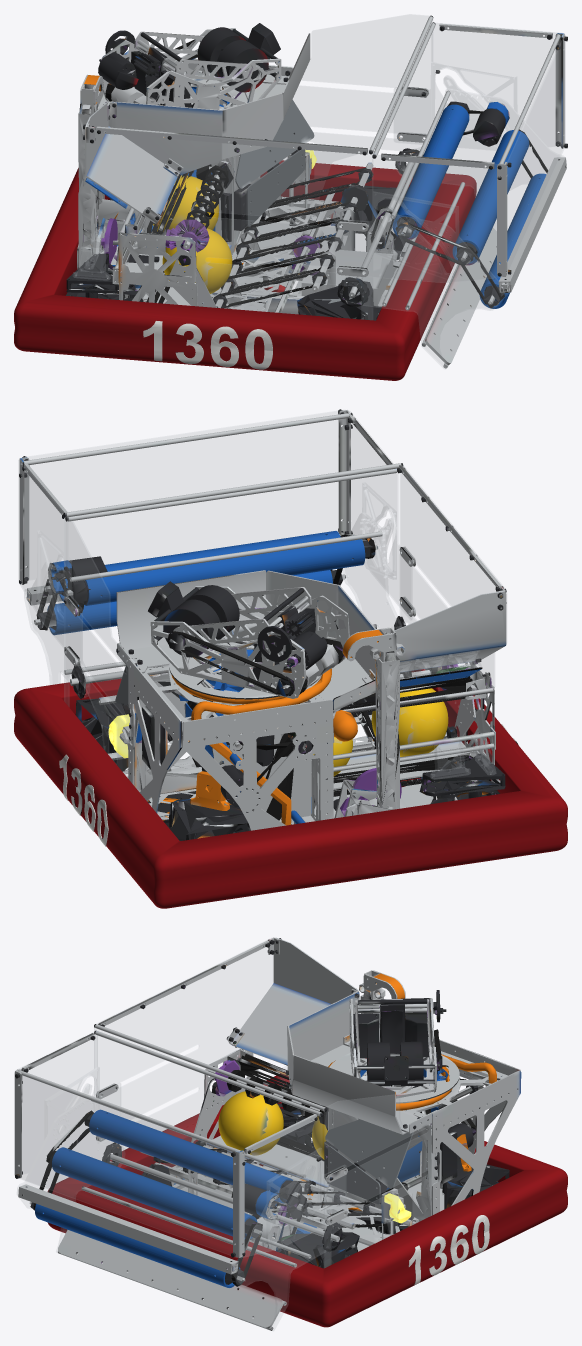
File: robot.glb
3 views of the same model, one above another, from view 1: azimuth 30°, elevation 25°; view 2: azimuth 150°, elevation 25°; view 3: azimuth 270°, elevation 25° (orthographic). The views are drawn at different scales.
Visible parts, largest first — view 1: NEW_robot_root__mesh, NEW_robot_root__glass_robot_polycarbonate.001; view 2: NEW_robot_root__mesh, NEW_robot_root__glass_robot_polycarbonate.001; view 3: NEW_robot_root__mesh, NEW_robot_root__glass_robot_polycarbonate.001.
Boxes of the visible parts, x1,y1,x2,y2 form: NEW_robot_root__mesh: [14, 15, 567, 380]; NEW_robot_root__glass_robot_polycarbonate.001: [73, 14, 565, 369]; NEW_robot_root__mesh: [14, 409, 567, 908]; NEW_robot_root__glass_robot_polycarbonate.001: [18, 410, 506, 816]; NEW_robot_root__mesh: [15, 937, 567, 1330]; NEW_robot_root__glass_robot_polycarbonate.001: [14, 938, 439, 1330].
Size of the model in its own units: 1.3 by 0.5543 by 1.27.
Materials: 3 (1 with a texture image).
